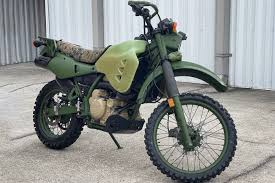motorcycle: (31, 1, 239, 183)
